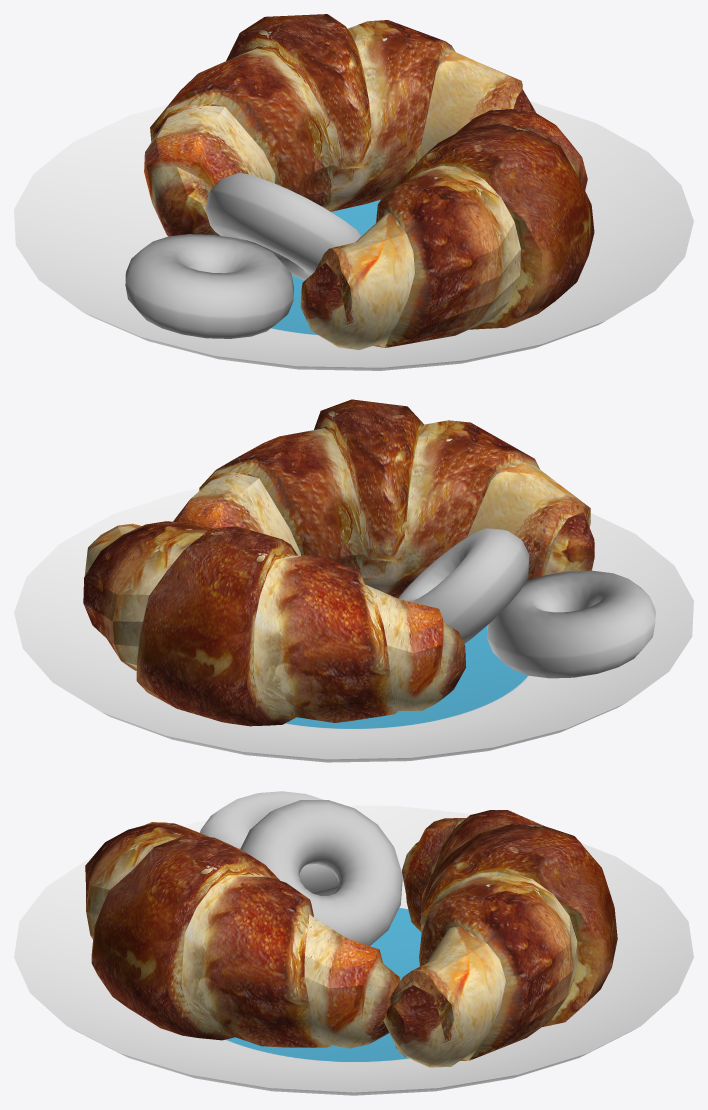
File: Pastries.FBX
The picture shows the model from 3 angles, top to bottom: view 1: azimuth 30°, elevation 25°; view 2: azimuth 150°, elevation 25°; view 3: azimuth 270°, elevation 25°; orthographic projection.
Visible parts, largest first — view 1: pastries; view 2: pastries; view 3: pastries.
Part boxes in pixels (x1=…): pastries: x1=14, y1=14, x2=693, y2=370; pastries: x1=14, y1=399, x2=693, y2=762; pastries: x1=14, y1=791, x2=693, y2=1095.
Bounding box in the file's own units: 29.49 × 9.21 × 29.55.
